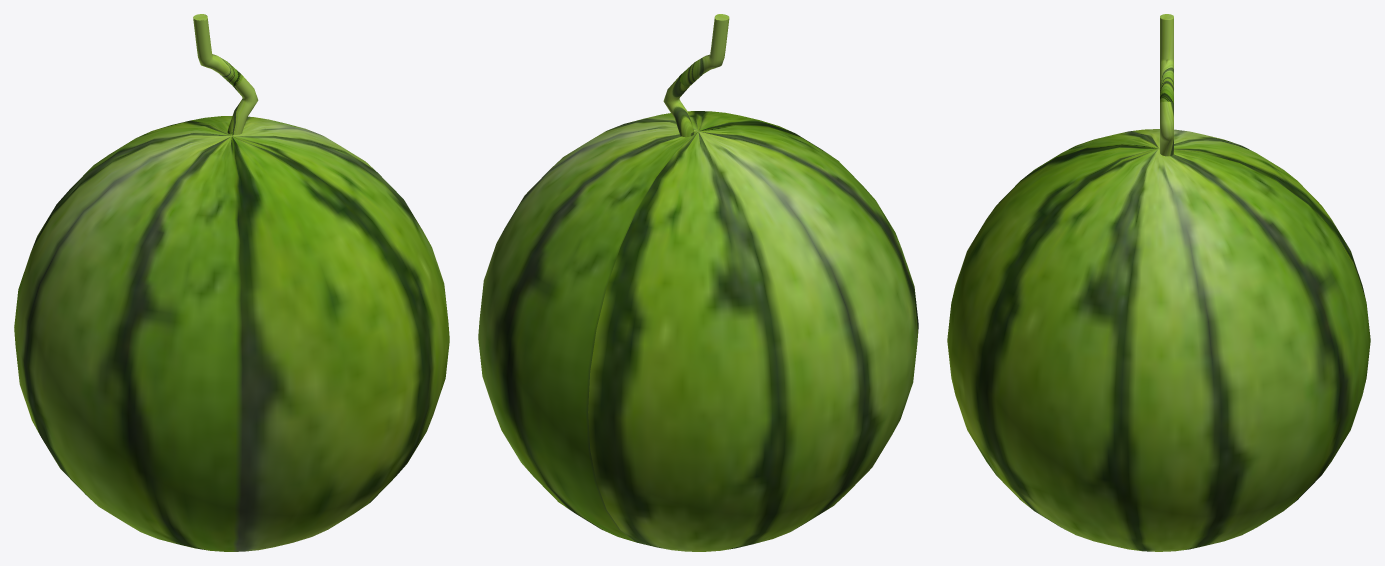
File: xigua0.FBX
3 renders of one model, left to right at view 1: azimuth 30°, elevation 25°; view 2: azimuth 150°, elevation 25°; view 3: azimuth 270°, elevation 25°, orthographic. The views are drawn at different scales.
Visible parts, largest first — view 1: Sphere001, Loft001; view 2: Sphere001, Loft001; view 3: Sphere001, Loft001.
Part boxes in pixels (x1,y1,x2,y2): Sphere001: [14, 116, 449, 551]; Loft001: [193, 14, 258, 134]; Sphere001: [478, 111, 918, 551]; Loft001: [663, 14, 729, 137]; Sphere001: [947, 129, 1370, 551]; Loft001: [1160, 14, 1173, 156].
Bounding box in the file's own units: 11.81 × 15.48 × 11.81.
